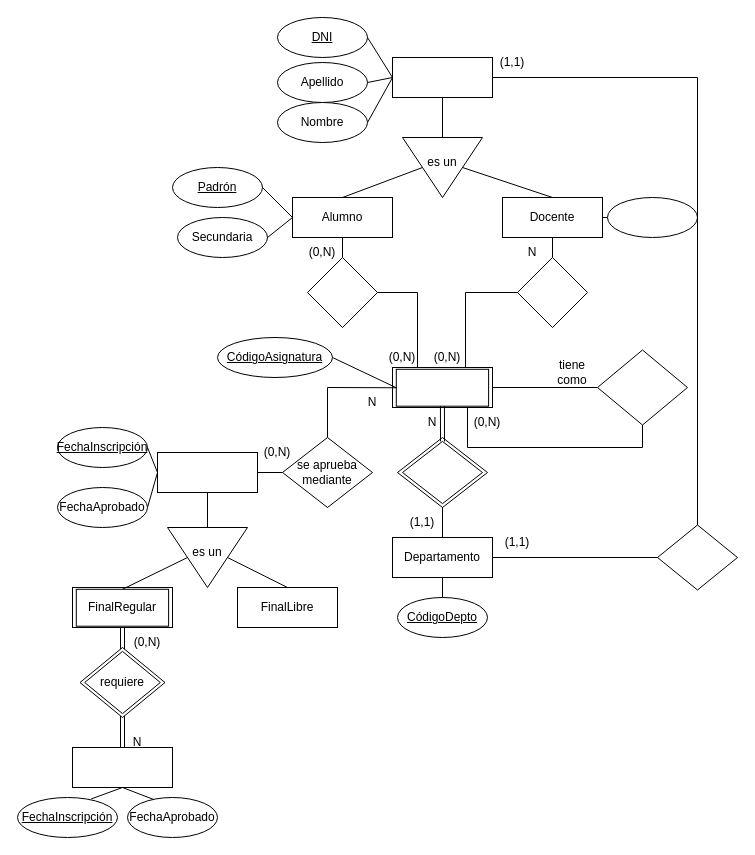
This 755x855 diagram has some shape labels left out. The centre of each missing label's shape, as x and y in pixels:
aprueba: the point at 342,292
Asignatura: the point at 442,387
correlativa: the point at 642,387
Cursada: the point at 122,767
dicta: the point at 552,292
es dirigido por: the point at 697,557
Final: the point at 207,472
Legajo: the point at 652,217
Persona: the point at 442,77
pertenece a: the point at 442,472
